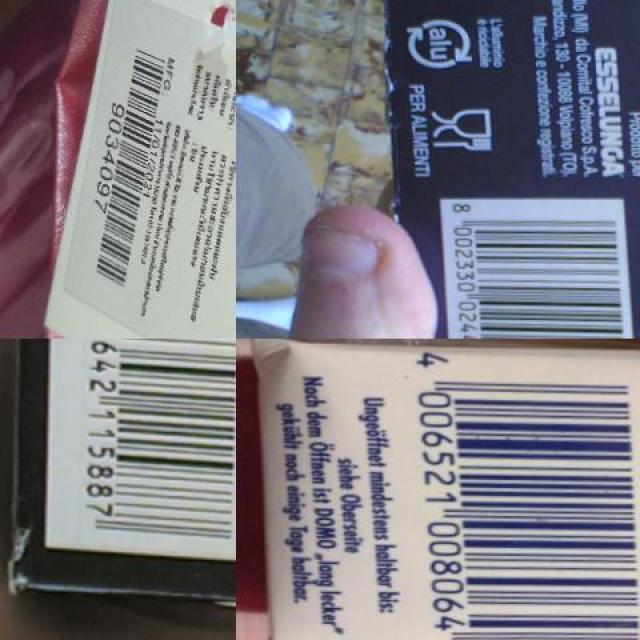Barcode: (402, 348, 640, 640), (25, 339, 236, 560), (69, 27, 184, 300), (439, 189, 633, 339)
